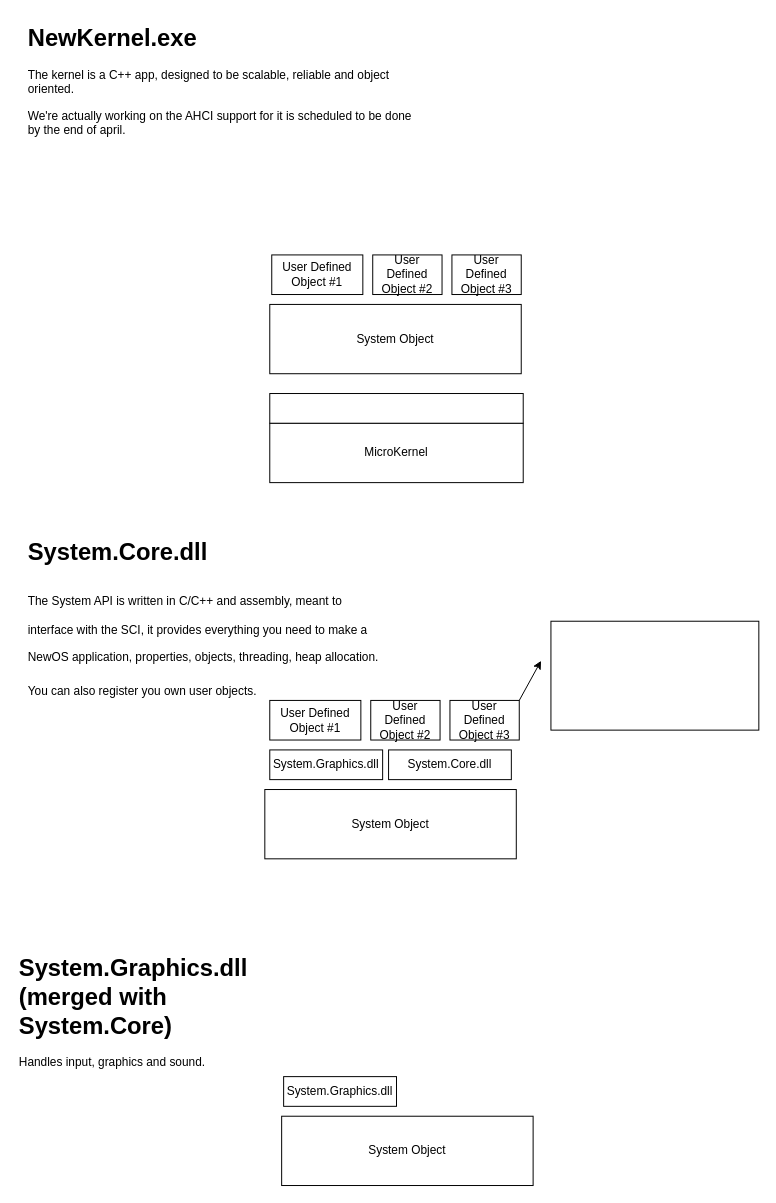
The diagram is 776 pixels wide and 1203 high, and some of its shapes have lost their labels. The shapes that lost their labels are listed below. From the top down, each one's box as (x1, y1, x2, y2) in pixels, then its label:
(269, 393, 523, 423): System Call Interface
(550, 620, 759, 730): /Manifest.xml /NewOS/ - Library.lib/Dll.dll (Subsystem 17) /Resources/
